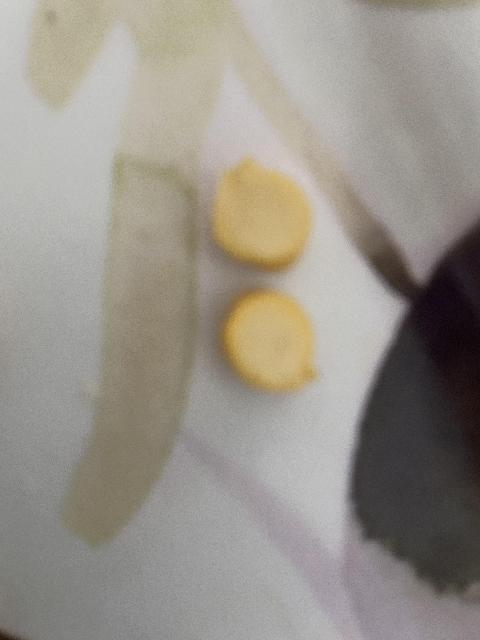Organik: (206, 176, 313, 278), (210, 297, 308, 397)
